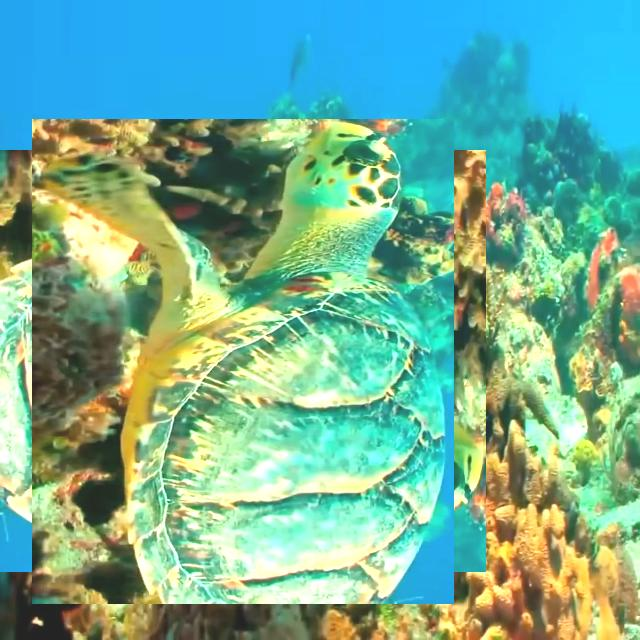Sea turtle: (16, 134, 470, 588)
